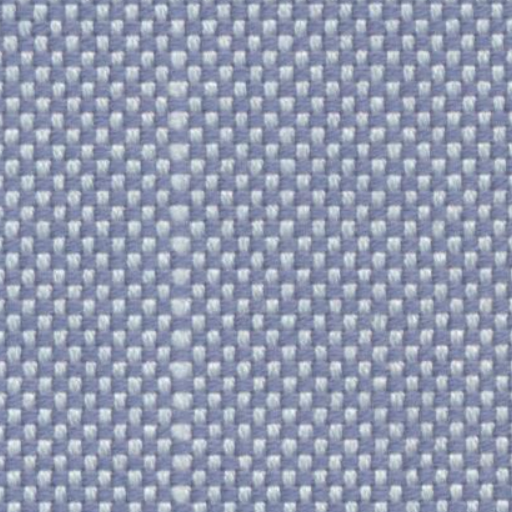TuoSha: (140, 12, 221, 496)
